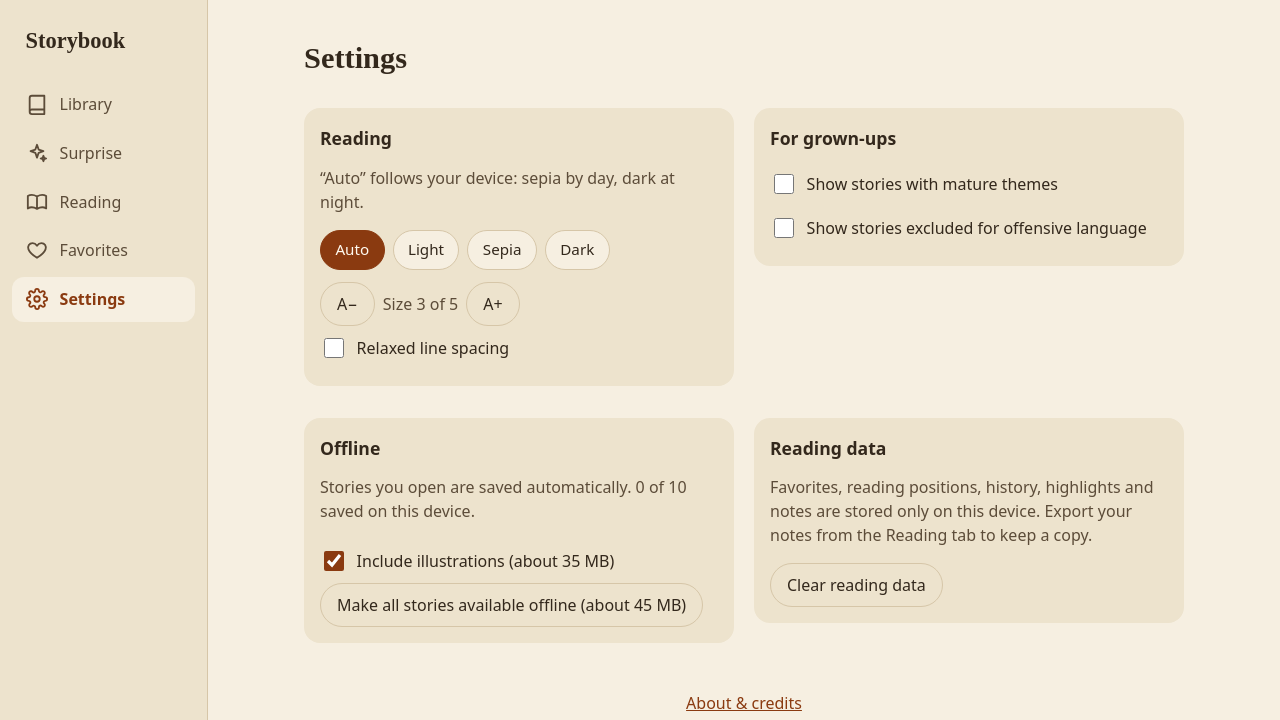
Test case: SettingsPage › offers a text-only offline download with honest sizes
The width and height of the screenshot is (1280, 720).
Expected: the button "Make all stories available offline (about 45 MB)" is shown, [320,583,703,627]
Click the checkbox labelled "Include illustrations (about 35 MB)". click: [334, 561]
box: [324,551,344,571]
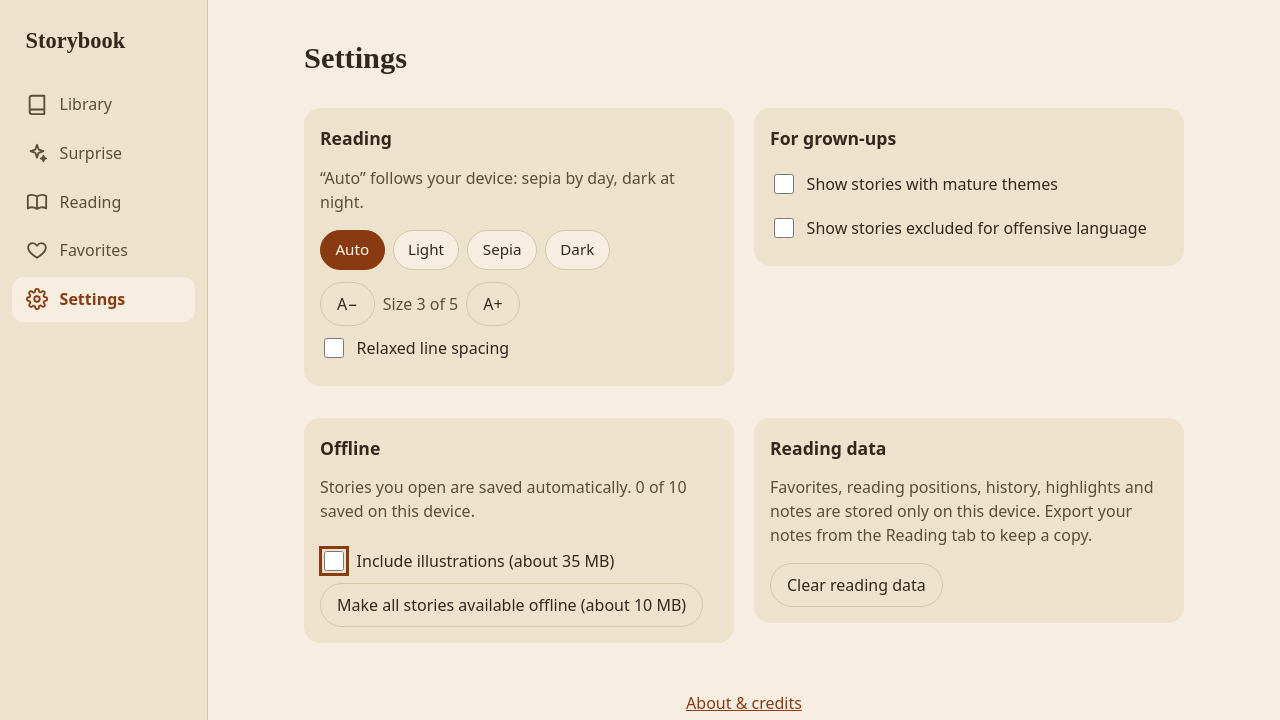
Expected: the button "Make all stories available offline (about 10 MB)" is shown, [320,583,703,627]
